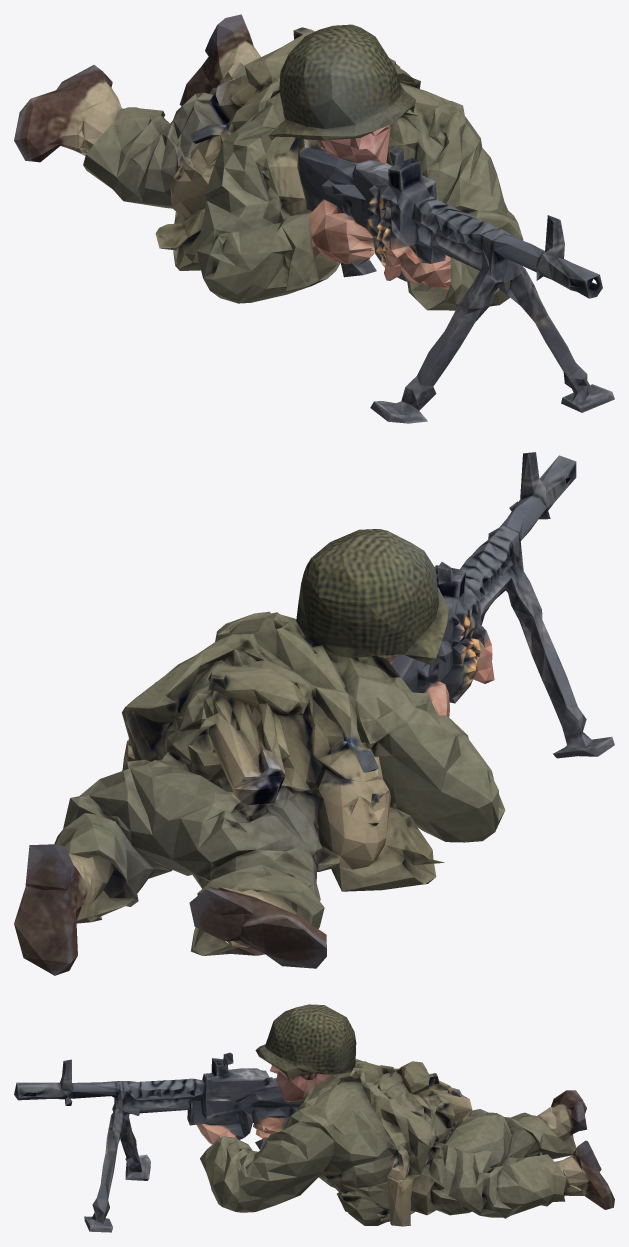
Rendered from ally_us_prone.obj.
The picture shows the model from 3 angles, top to bottom: view 1: azimuth 30°, elevation 25°; view 2: azimuth 150°, elevation 25°; view 3: azimuth 270°, elevation 25°; orthographic projection. The views are drawn at different scales.
Parts seen in each view (by area): view 1: ally_us_prone; view 2: ally_us_prone; view 3: ally_us_prone.
Part boxes in pixels (x1,y1,x2,y2): ally_us_prone: (14,14,614,423); ally_us_prone: (14,452,614,975); ally_us_prone: (14,1004,614,1232).
Size of the model in its own units: 0.8648 by 0.75 by 2.14.
1 material, 1 textured.
